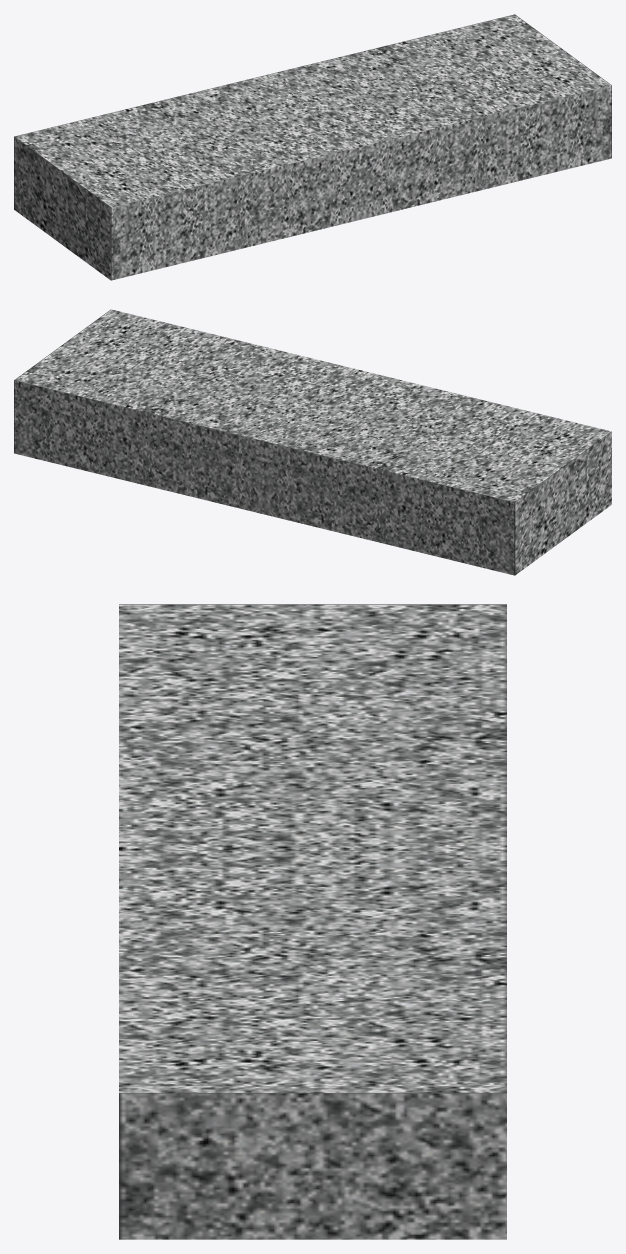
Rendered from SM_Sun_Pal_Step.fbx.
3 renders of one model, top to bottom at view 1: azimuth 30°, elevation 25°; view 2: azimuth 150°, elevation 25°; view 3: azimuth 270°, elevation 25°, orthographic. The views are drawn at different scales.
Visible parts, largest first — view 1: SM_Sun_Pal_Step; view 2: SM_Sun_Pal_Step; view 3: SM_Sun_Pal_Step.
Boxes of the visible parts, left/top/right/bottom form: SM_Sun_Pal_Step: left=14, top=14, right=611, bottom=280; SM_Sun_Pal_Step: left=14, top=309, right=611, bottom=575; SM_Sun_Pal_Step: left=119, top=604, right=506, bottom=1239.
Size of the model in its own units: 151 by 20.99 by 50.51.
